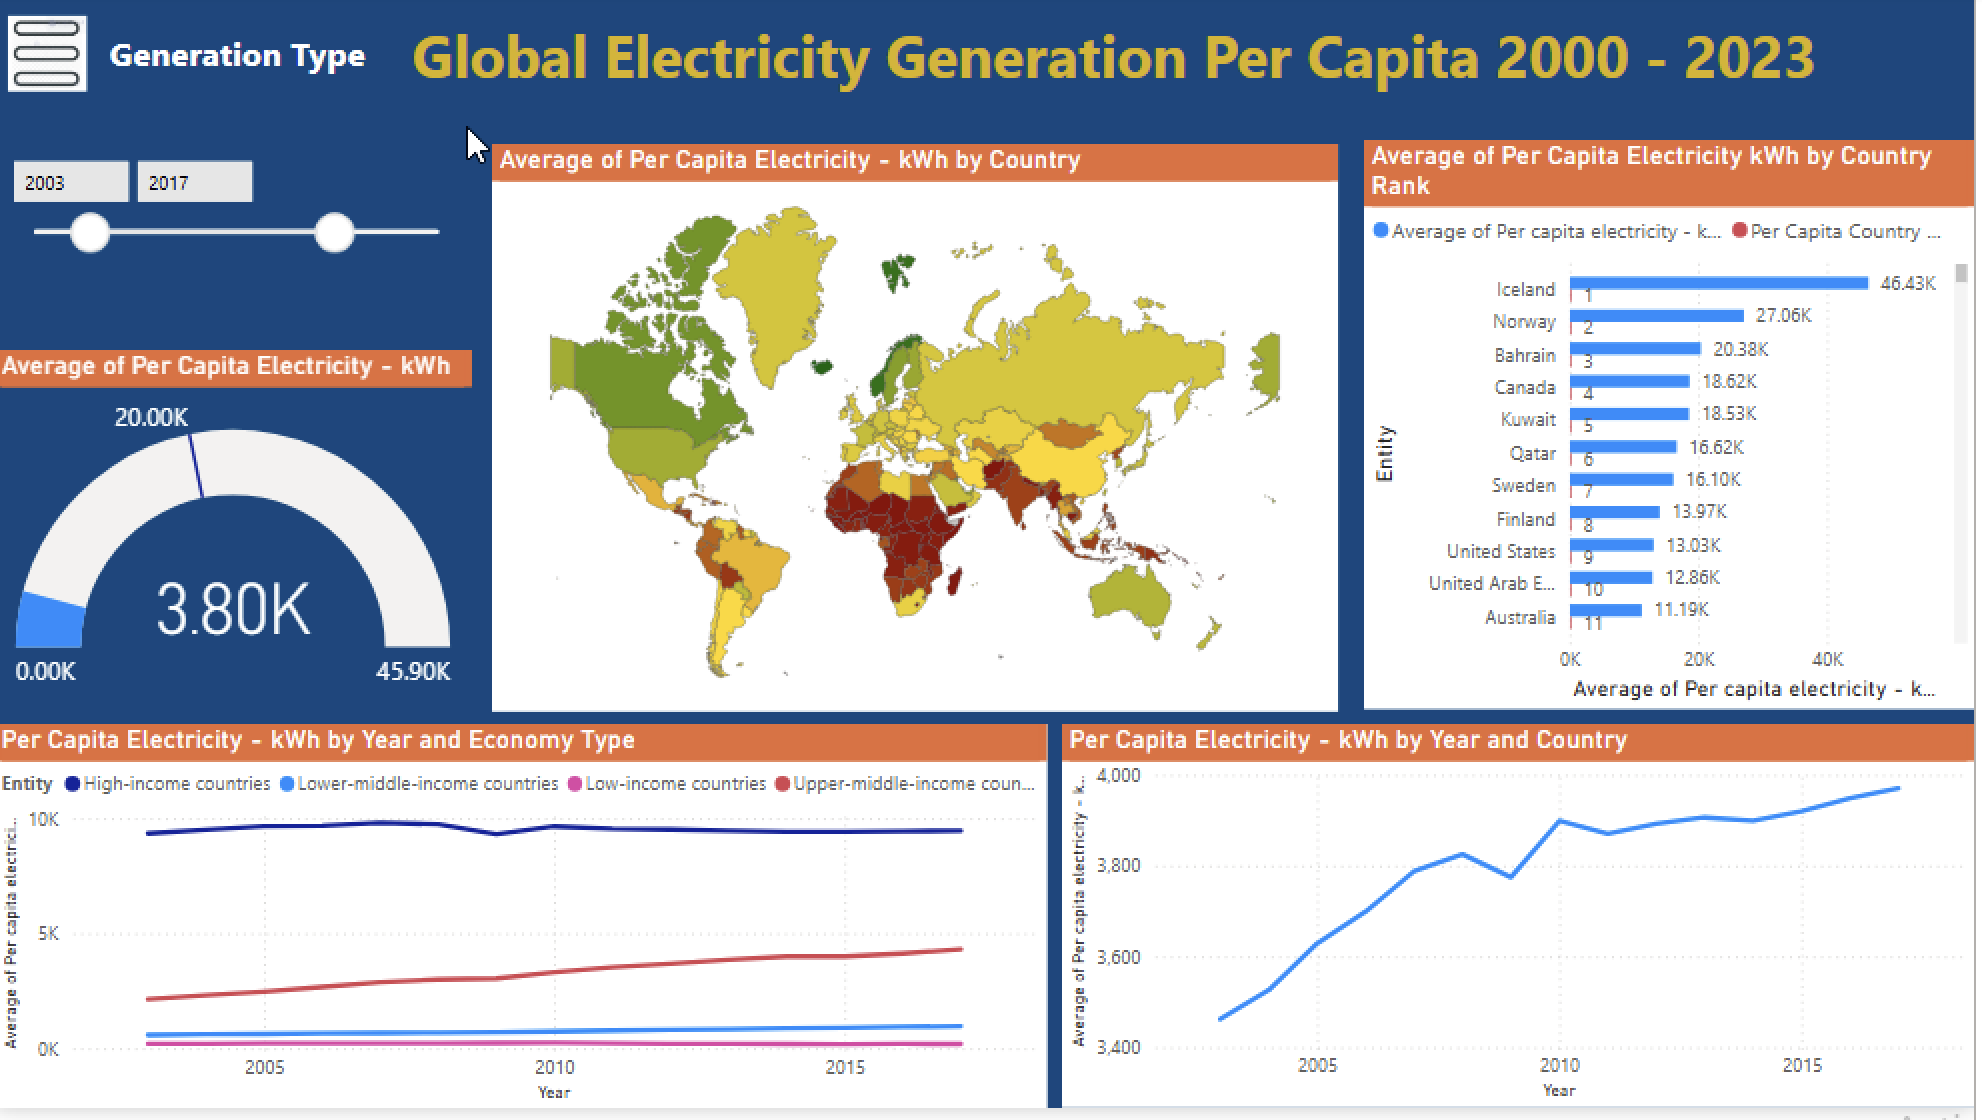

The page's visual inventory and layout, read from the dashboard file:
{"tool":"powerbi","page":{"name":"Electricity Per Capita","canvas":[1280,720],"ordinal":0},"visuals":[{"type":"shapeMap","title":"Average of Per Capita Electricity - kWh by Country","fields":{"Category":["per-capita-electricity-generation.Entity"],"Value":["Avg(per-capita-electricity-generation.Per capita electricity - kWh)"]},"box":[321.8,96.4,547.2,366.9],"z":0},{"type":"textbox","box":[255.4,8.8,936.6,63.9],"z":1000},{"type":"textbox","box":[69.6,18.7,185.9,58.9],"z":2000},{"type":"image","box":[0,9.1,68.5,59.5],"z":3000},{"type":"clusteredBarChart","title":"Average of Per Capita Electricity kWh by Country Rank","fields":{"Category":["per-capita-electricity-generation.Entity"],"Y":["Avg(per-capita-electricity-generation.Per capita electricity - kWh)","per-capita-electricity-generation.Per Capita Country Rank"]},"box":[885.4,95,394.6,367.8],"z":4000},{"type":"slicer","fields":{"Values":["per-capita-electricity-generation.Year"]},"box":[0,98.5,309.2,110.6],"z":5000},{"type":"gauge","title":"Average of Per Capita Electricity - kWh","fields":{"Y":["Avg(per-capita-electricity-generation.Per capita electricity - kWh)"]},"box":[0,229.7,309.2,228],"z":6000},{"type":"lineChart","title":"Per Capita Electricity - kWh by Year and Economy Type","fields":{"Category":["per-capita-electricity-generation.Entity Hierarchy.Entity","per-capita-electricity-generation.Entity Hierarchy.Year"],"Y":["Avg(per-capita-electricity-generation.Per capita electricity - kWh)"],"Series":["per-capita-electricity-generation.Entity Hierarchy.Entity"]},"box":[0,471.6,680.6,248.7],"z":7000},{"type":"lineChart","title":"Per Capita Electricity - kWh by Year and Country","fields":{"Category":["per-capita-electricity-generation.Year"],"Y":["Avg(per-capita-electricity-generation.Per capita electricity - kWh)"]},"box":[690.4,471.9,589.6,248.2],"z":8000},{"type":"actionButton","box":[0,3.9,67.2,68.5],"z":9000}]}

Visuals, with their boxes in screenshot pixels (x1, y1, x2, y2), scaled from the page's 1280x720 canvas onto the 1982x1120 screenshot:
"Average of Per Capita Electricity - kWh by Country" shapeMap: box=[498, 150, 1346, 721]
textbox: box=[395, 14, 1846, 113]
textbox: box=[108, 29, 396, 121]
image: box=[0, 14, 106, 107]
"Average of Per Capita Electricity kWh by Country Rank" clusteredBarChart: box=[1371, 148, 1981, 720]
slicer - per-capita-electricity-generation.Year: box=[0, 153, 479, 325]
"Average of Per Capita Electricity - kWh" gauge: box=[0, 357, 479, 712]
"Per Capita Electricity - kWh by Year and Economy Type" lineChart: box=[0, 734, 1054, 1119]
"Per Capita Electricity - kWh by Year and Country" lineChart: box=[1069, 734, 1981, 1119]
actionButton: box=[0, 6, 104, 113]
